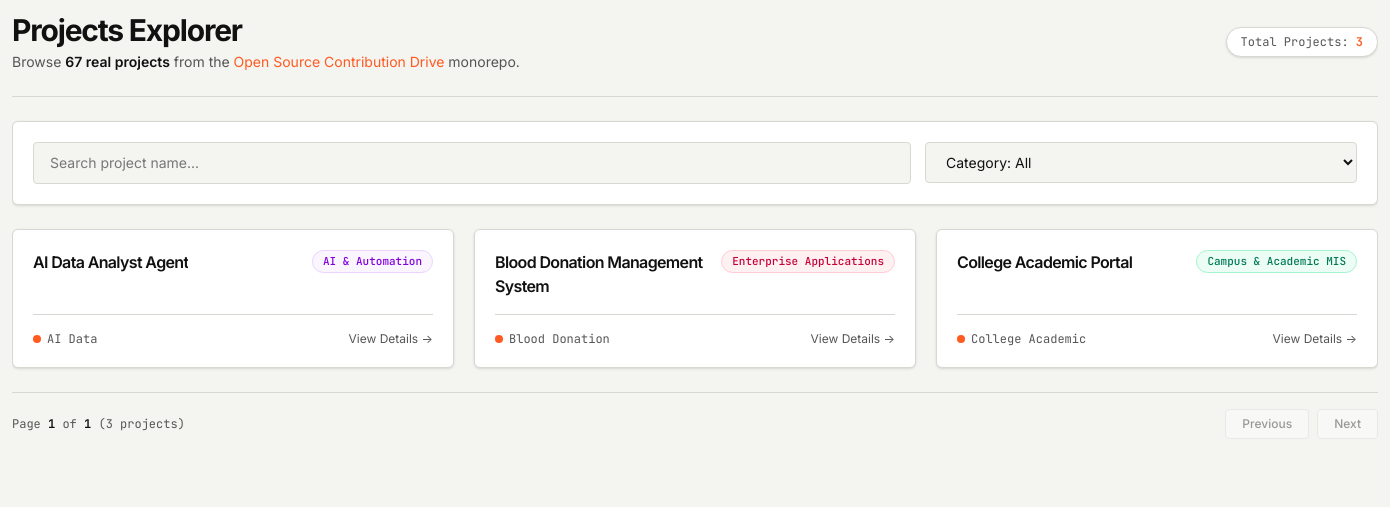
Scenario: ProjectsExplorerPage › client-side search filters projects by name
This screenshot has width=1390, height=507.
expect the heading "AI Data Analyst Agent" is shown: met, box [33, 250, 188, 274]
Type "Blood" into the field with placeholder "Search project name...".
click(472, 163); type("Blood")  # box [33, 142, 911, 184]
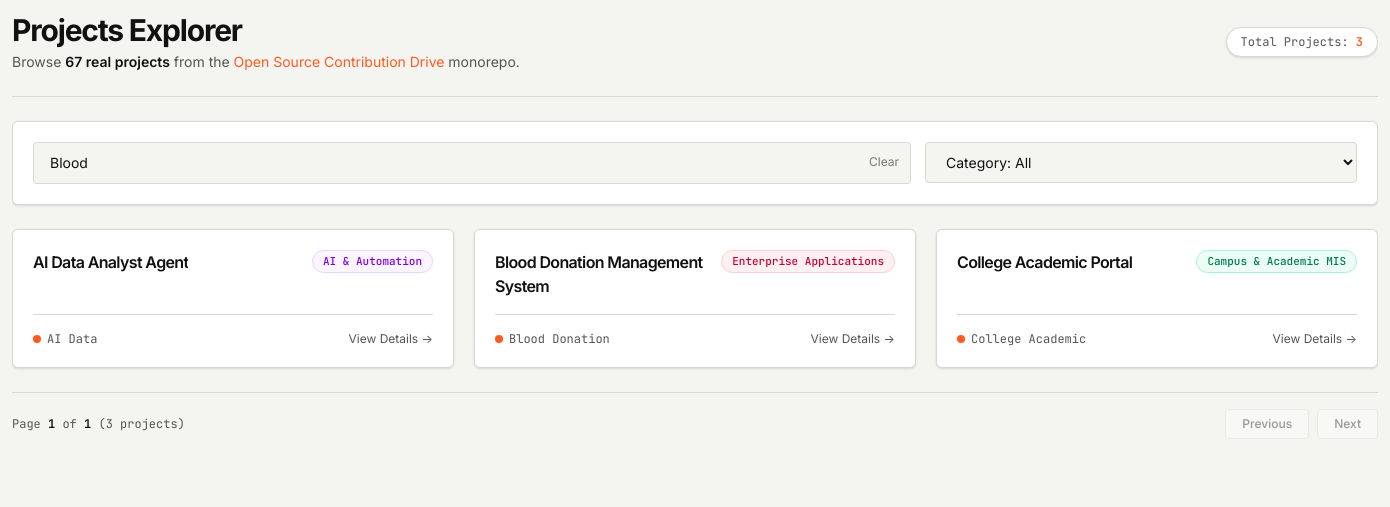
Submit the form with placeholder "search project name", box [33, 142, 1357, 184]
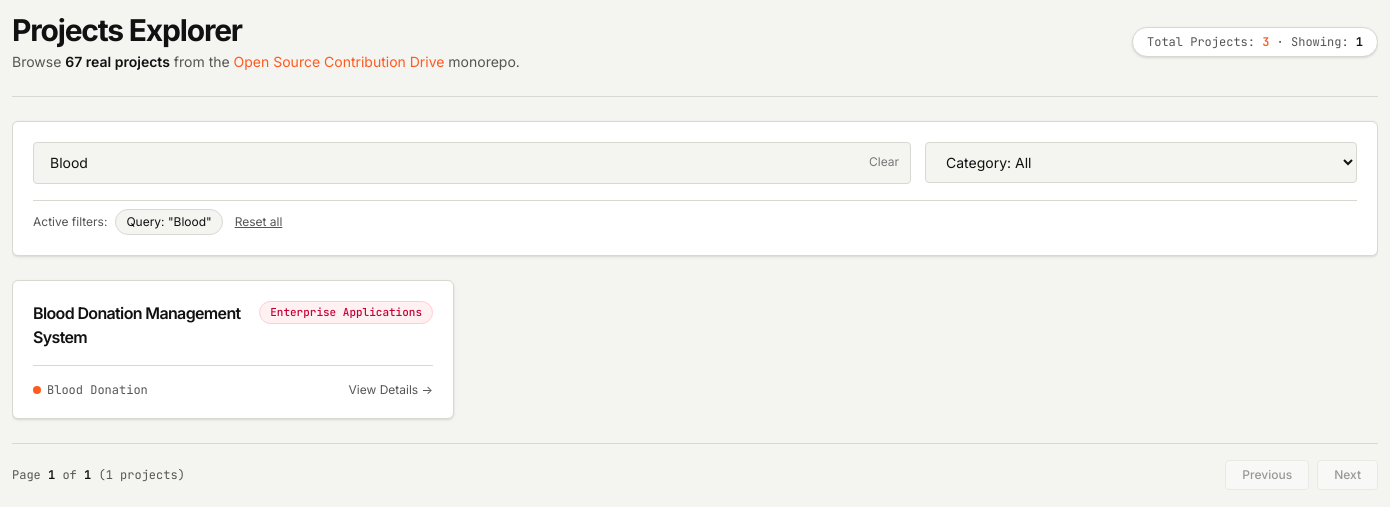
expect the heading "Blood Donation Management System" is shown: met, box [33, 301, 251, 349]
expect the link "AI Data Analyst Agent" is gone: met
expect the link "College Academic Portal" is gone: met
